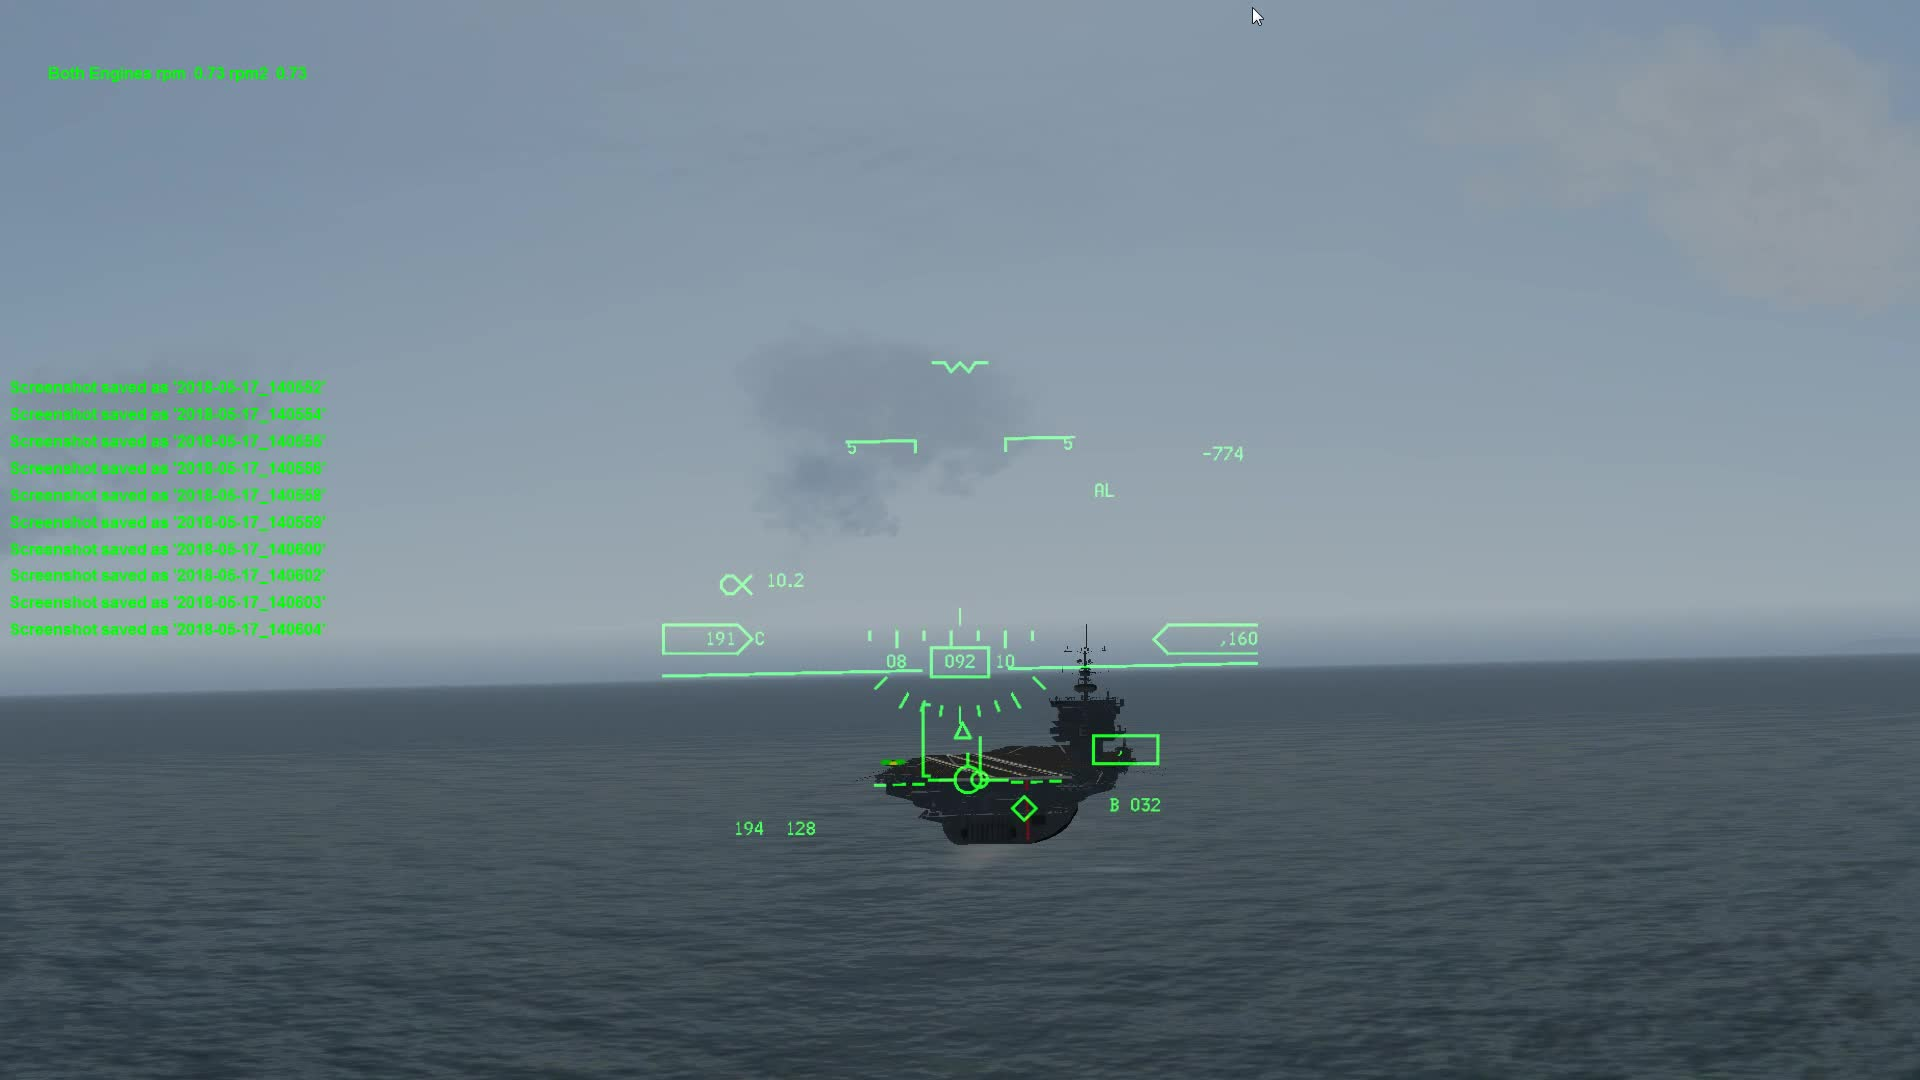speed vector: (935, 748, 1015, 799)
